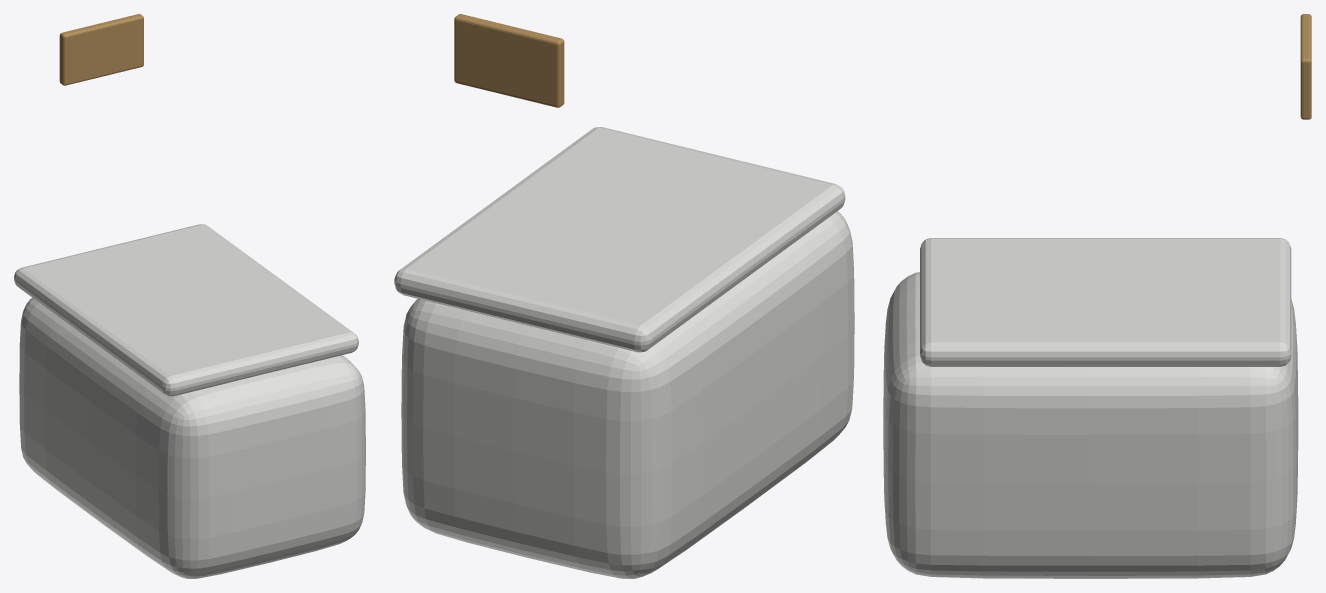
The picture shows the model from 3 angles, left to right: view 1: azimuth 30°, elevation 25°; view 2: azimuth 150°, elevation 25°; view 3: azimuth 270°, elevation 25°; orthographic projection. The views are drawn at different scales.
Parts seen in each view (by area): view 1: wc_body, wc_lid, wc_plate; view 2: wc_body, wc_lid, wc_plate; view 3: wc_body, wc_lid, wc_plate.
Part boxes in pixels (left/top/right/bottom): wc_body: left=19, top=297, right=365, bottom=578; wc_lid: left=14, top=224, right=358, bottom=396; wc_plate: left=59, top=14, right=143, bottom=85; wc_body: left=401, top=211, right=854, bottom=578; wc_lid: left=394, top=127, right=845, bottom=352; wc_plate: left=454, top=14, right=564, bottom=107; wc_body: left=883, top=272, right=1298, bottom=578; wc_lid: left=920, top=238, right=1291, bottom=366; wc_plate: left=1300, top=14, right=1311, bottom=119.
Bounding box in the file's own units: 0.3791 × 0.7446 × 0.5771.
